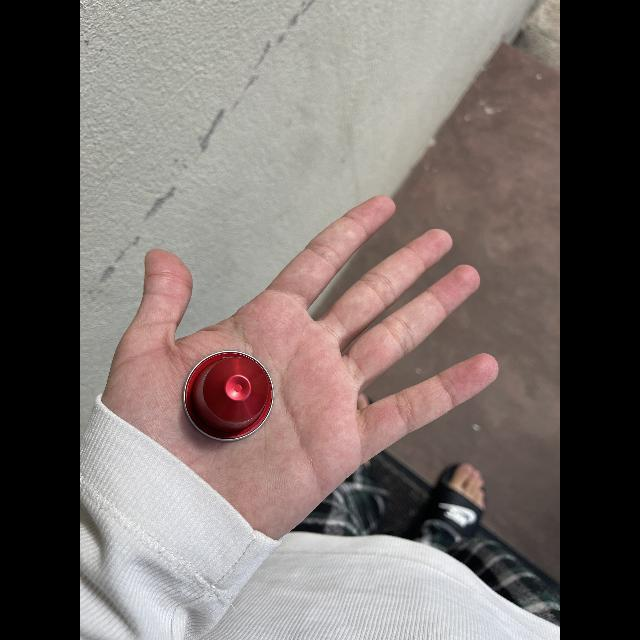intact_capsule: (180, 349, 280, 449)
